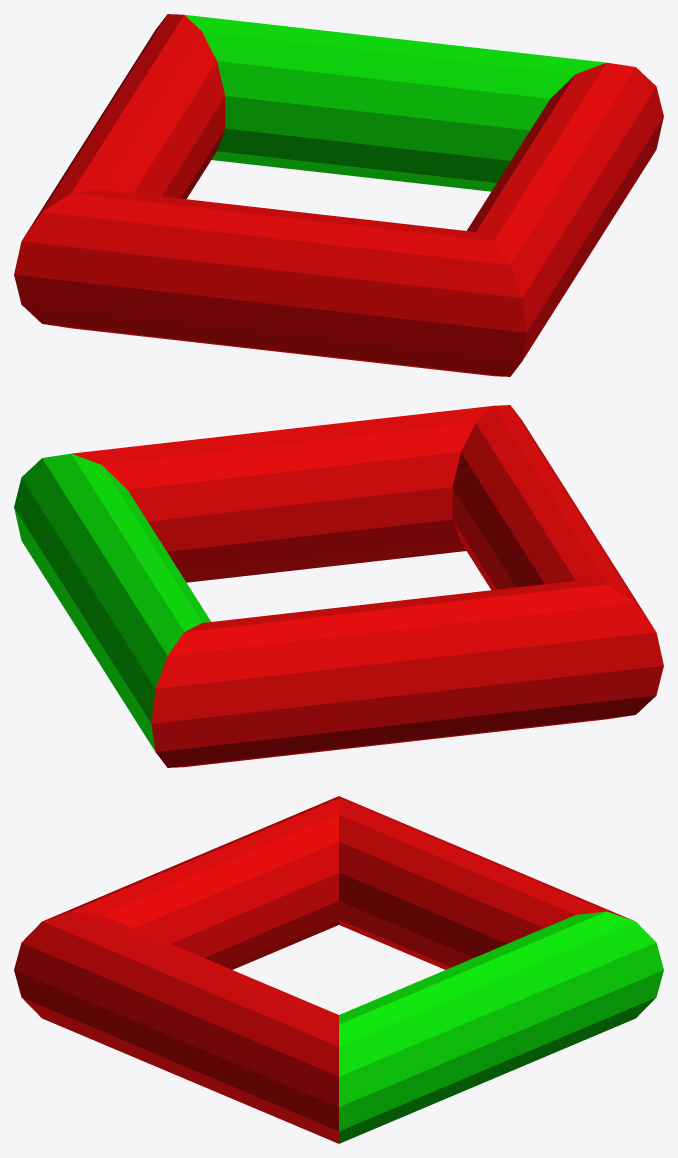
Rendered from StackFallsDemo_Object_3.fbx.
The picture shows the model from 3 angles, top to bottom: view 1: azimuth 30°, elevation 25°; view 2: azimuth 150°, elevation 25°; view 3: azimuth 270°, elevation 25°; orthographic projection. The views are drawn at different scales.
Parts seen in each view (by area): view 1: Torus.016, Torus.014, Torus.015, Torus.013; view 2: Torus.013, Torus.015, Torus.014, Torus.016; view 3: Torus.014, Torus.015, Torus.013, Torus.016.
Boxes of the visible parts, x1=… form: Torus.016: x1=14, y1=189, x2=526, y2=376; Torus.014: x1=185, y1=15, x2=605, y2=191; Torus.015: x1=467, y1=62, x2=663, y2=360; Torus.013: x1=23, y1=14, x2=225, y2=238; Torus.013: x1=151, y1=580, x2=663, y2=767; Torus.015: x1=72, y1=406, x2=492, y2=582; Torus.014: x1=14, y1=453, x2=210, y2=751; Torus.016: x1=452, y1=405, x2=654, y2=629; Torus.014: x1=339, y1=911, x2=663, y2=1143; Torus.015: x1=14, y1=911, x2=338, y2=1143; Torus.013: x1=339, y1=796, x2=633, y2=969; Torus.016: x1=44, y1=796, x2=338, y2=969.
Bounding box in the file's own units: 250 × 49.64 × 250.
